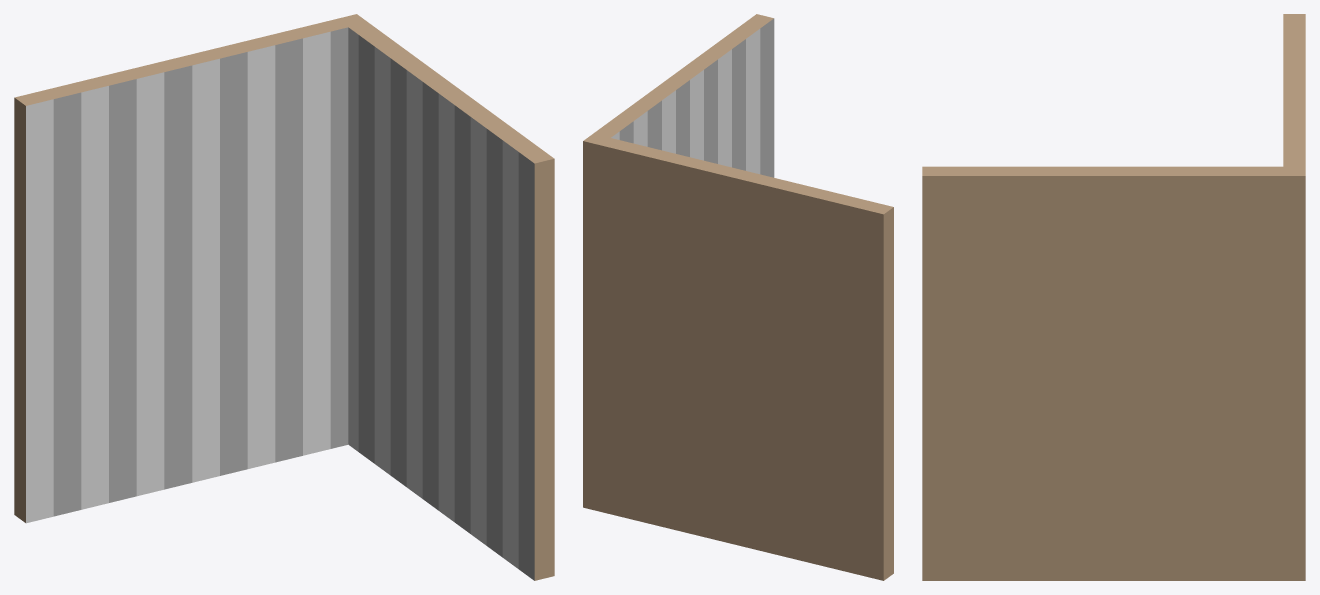
File: Wall2_C8_06.fbx
The picture shows the model from 3 angles, left to right: view 1: azimuth 30°, elevation 25°; view 2: azimuth 150°, elevation 25°; view 3: azimuth 270°, elevation 25°; orthographic projection. The views are drawn at different scales.
Visible parts, largest first — view 1: Wall2_C8_06; view 2: Wall2_C8_06; view 3: Wall2_C8_06.
Part boxes in pixels (x1=…): Wall2_C8_06: x1=14, y1=14, x2=554, y2=580; Wall2_C8_06: x1=583, y1=14, x2=893, y2=580; Wall2_C8_06: x1=922, y1=14, x2=1305, y2=580.
Size of the model in its own units: 258 by 300 by 258.
